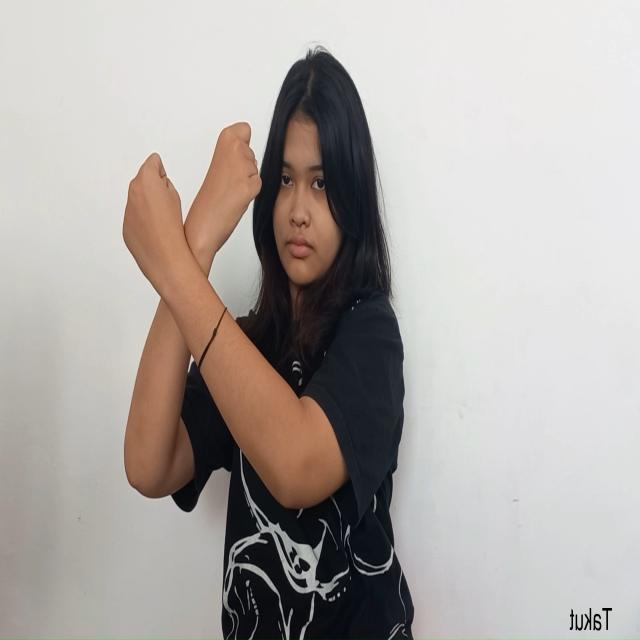Takut -BISINDO-: (121, 119, 263, 311)
